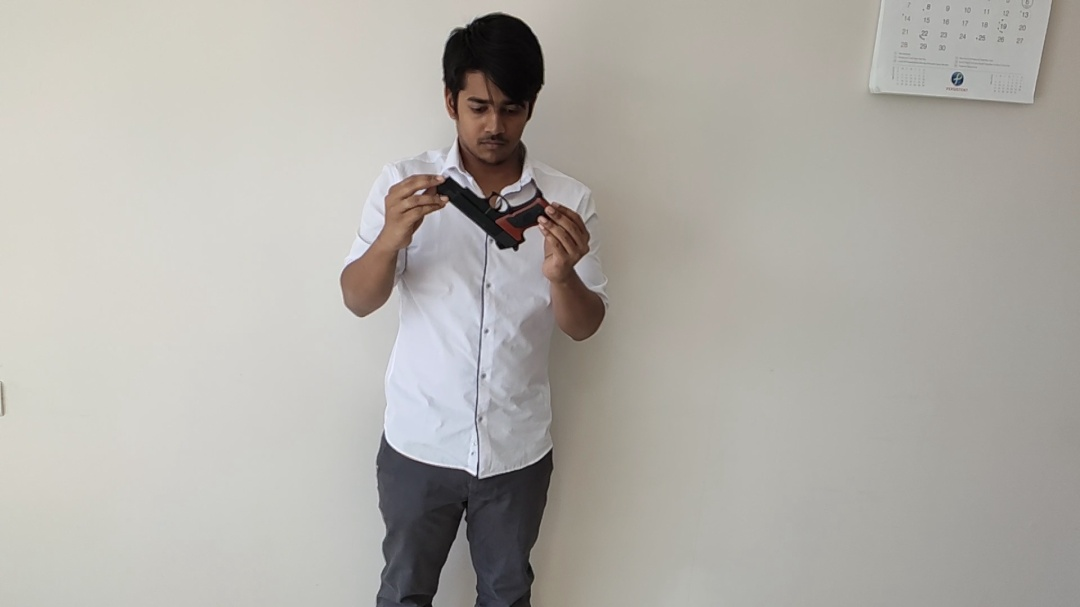gun: (227, 51, 745, 607)
